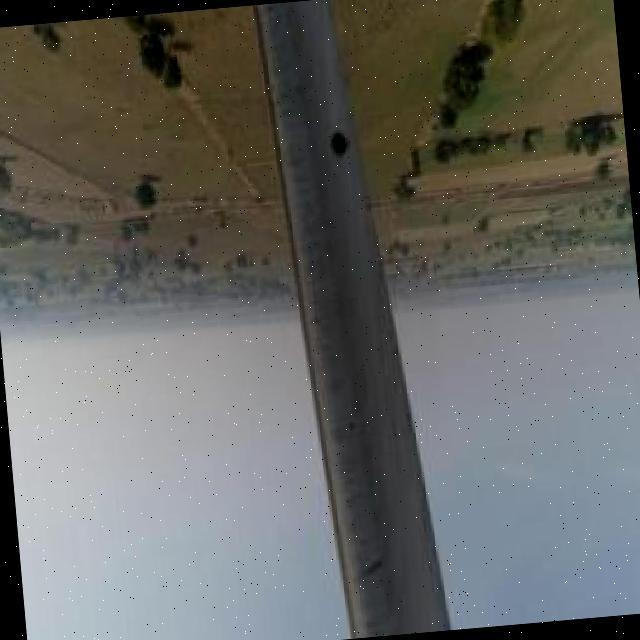Dirt: (255, 1, 450, 640)
Oil LEAKAGE: (325, 128, 353, 160)
Pin Hole: (344, 418, 358, 431)
